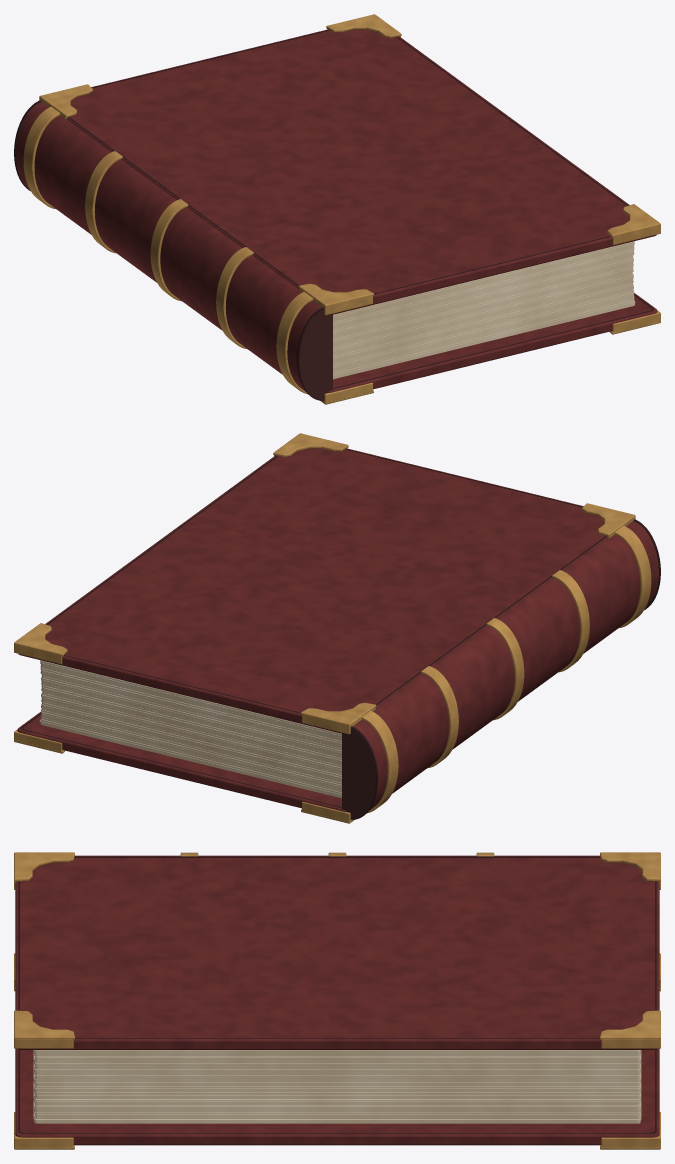
Rendered from ClosedBook.fbx.
3 renders of one model, top to bottom at view 1: azimuth 30°, elevation 25°; view 2: azimuth 150°, elevation 25°; view 3: azimuth 270°, elevation 25°, orthographic. The views are drawn at different scales.
Visible parts, largest first — view 1: ClosedBook_Surfaces, ClosedBook_Leather_Binding_End_Tail; view 2: ClosedBook_Surfaces, ClosedBook_Leather_Binding_End_Head; view 3: ClosedBook_Surfaces.
Part boxes in pixels (bbox=[...]): ClosedBook_Surfaces: bbox=[14, 14, 660, 404]; ClosedBook_Leather_Binding_End_Tail: bbox=[299, 309, 332, 399]; ClosedBook_Surfaces: bbox=[14, 433, 660, 823]; ClosedBook_Leather_Binding_End_Head: bbox=[342, 728, 375, 818]; ClosedBook_Surfaces: bbox=[14, 852, 660, 1149].
Size of the model in its own units: 32.4 by 8.5 by 44.16.
Materials: 2 (1 with a texture image).
